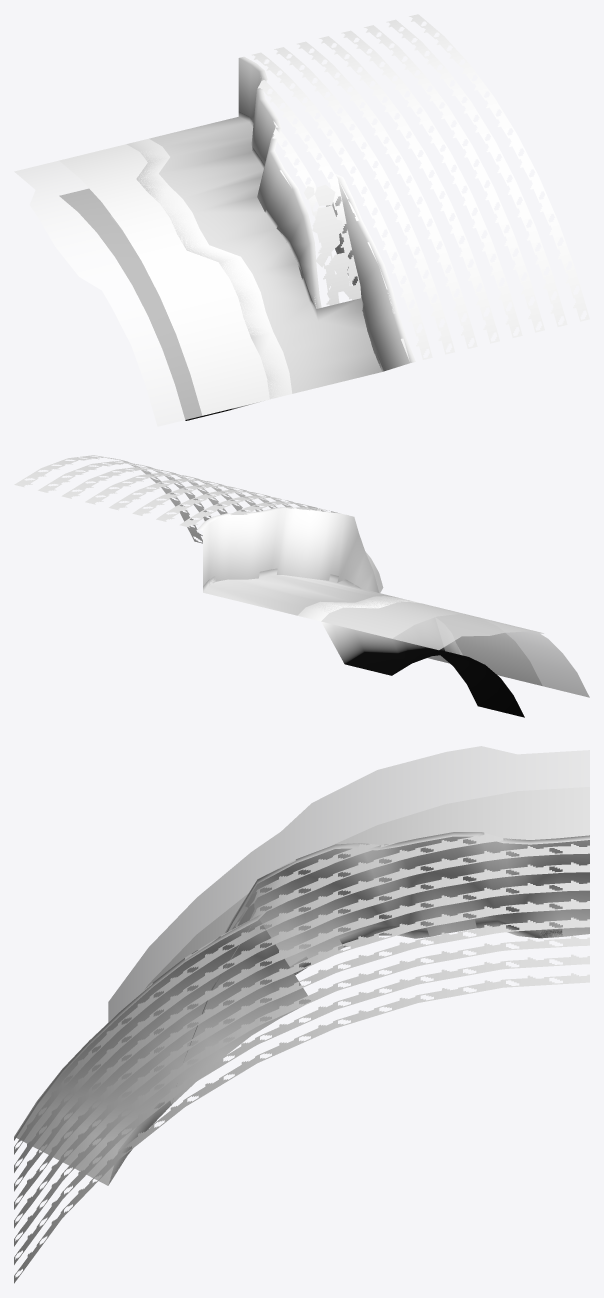
The model's file is grd_Mw_S_2.dae.
3 renders of one model, top to bottom at view 1: azimuth 30°, elevation 25°; view 2: azimuth 150°, elevation 25°; view 3: azimuth 270°, elevation 25°, orthographic. The views are drawn at different scales.
Parts seen in each view (by area): view 1: grd_Mw_S_2; view 2: grd_Mw_S_2; view 3: grd_Mw_S_2.
Boxes of the visible parts, <box> form: grd_Mw_S_2: <box>14,14,589,426</box>; grd_Mw_S_2: <box>14,455,589,717</box>; grd_Mw_S_2: <box>14,746,589,1283</box>.
Bounding box in the file's own units: 608 × 308 × 423.
7 materials, 1 textured.
